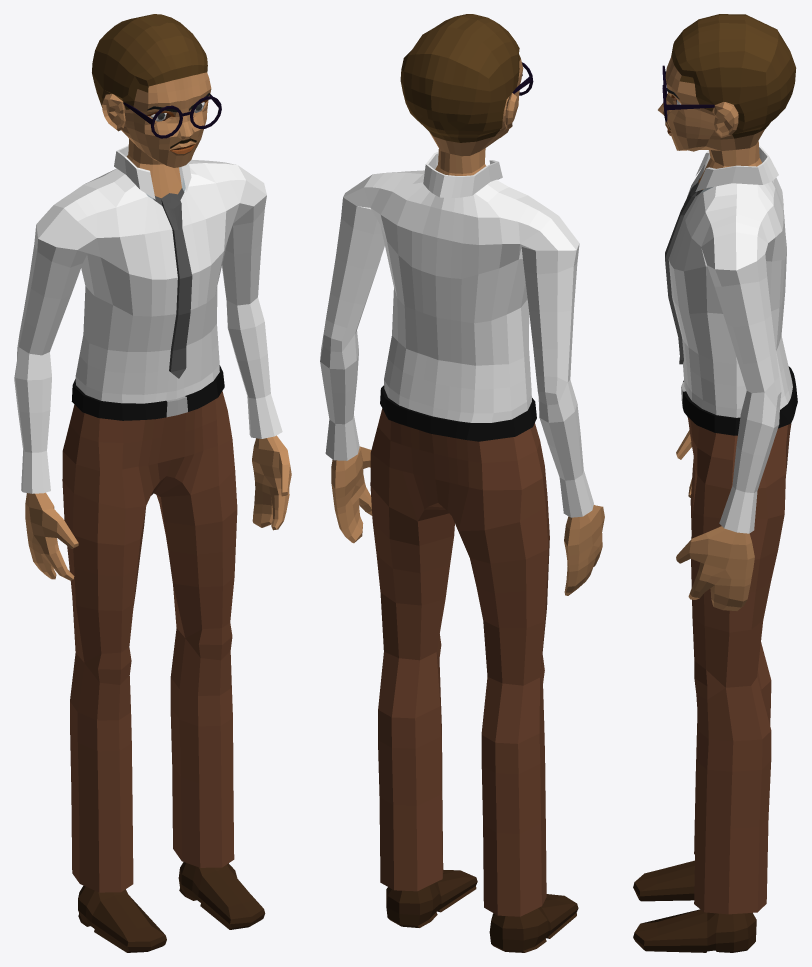
The model's file is TeacherMale_A_Stand.fbx.
The picture shows the model from 3 angles, left to right: view 1: azimuth 30°, elevation 25°; view 2: azimuth 150°, elevation 25°; view 3: azimuth 270°, elevation 25°; orthographic projection. The views are drawn at different scales.
Visible parts, largest first — view 1: TeacherMale_A_Stand; view 2: TeacherMale_A_Stand; view 3: TeacherMale_A_Stand.
Part boxes in pixels (box(x1,y1,x2,y2)): TeacherMale_A_Stand: box(14, 14, 291, 952); TeacherMale_A_Stand: box(320, 14, 604, 952); TeacherMale_A_Stand: box(633, 14, 797, 952).
Size of the model in its own units: 0.2883 by 0.9445 by 0.1568.
